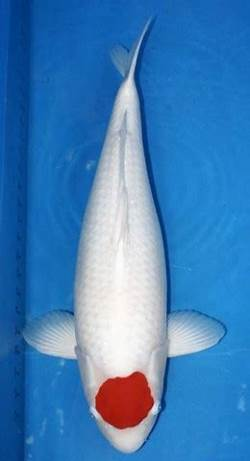sun: (22, 13, 226, 455)
